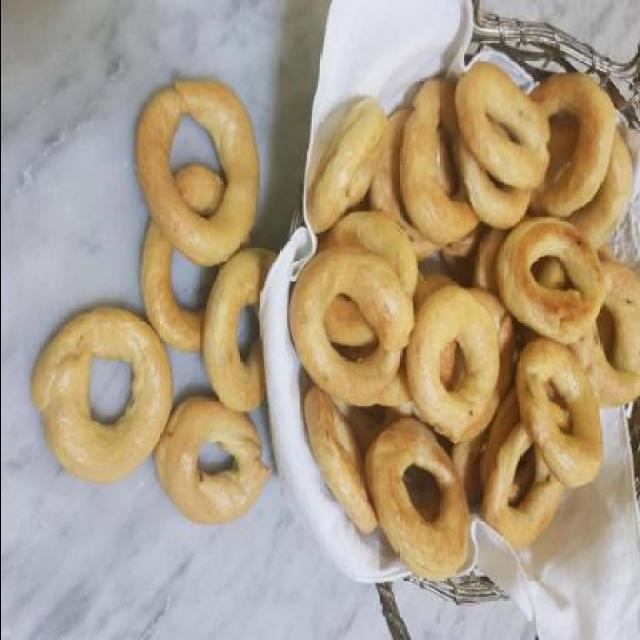Taralli: (296, 64, 639, 582), (129, 77, 266, 266), (36, 307, 170, 490), (149, 397, 273, 528)
